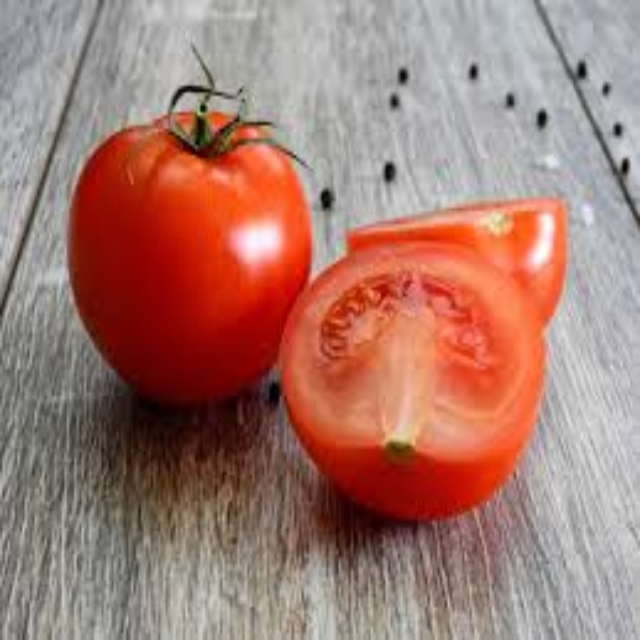tomato: (297, 216, 570, 520), (69, 101, 307, 398)
